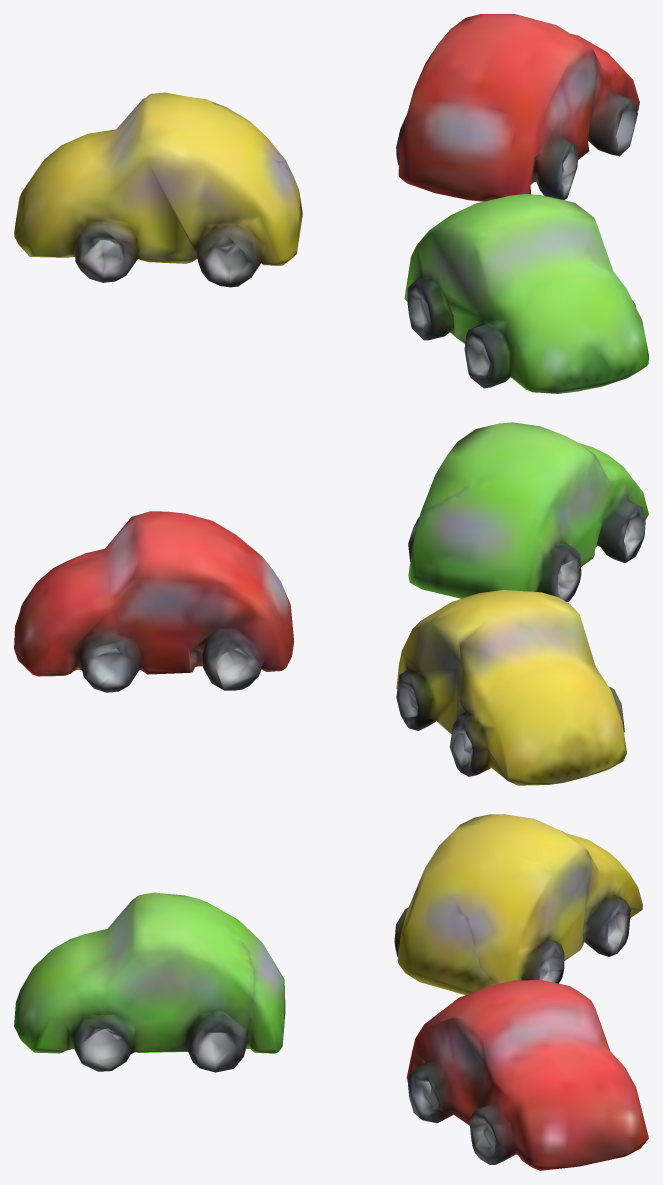
The model's file is CARSII-medium.glb.
The picture shows the model from 3 angles, top to bottom: view 1: azimuth 30°, elevation 25°; view 2: azimuth 150°, elevation 25°; view 3: azimuth 270°, elevation 25°; orthographic projection. The views are drawn at different scales.
Parts seen in each view (by area): view 1: CARSII; view 2: CARSII; view 3: CARSII.
Part boxes in pixels (left/top/right/bottom): CARSII: left=14, top=14, right=648, bottom=393; CARSII: left=14, top=422, right=648, bottom=785; CARSII: left=14, top=814, right=648, bottom=1170.
Size of the model in its own units: 0.1226 by 0.0272 by 0.1155.
Materials: 1 (1 with a texture image).
